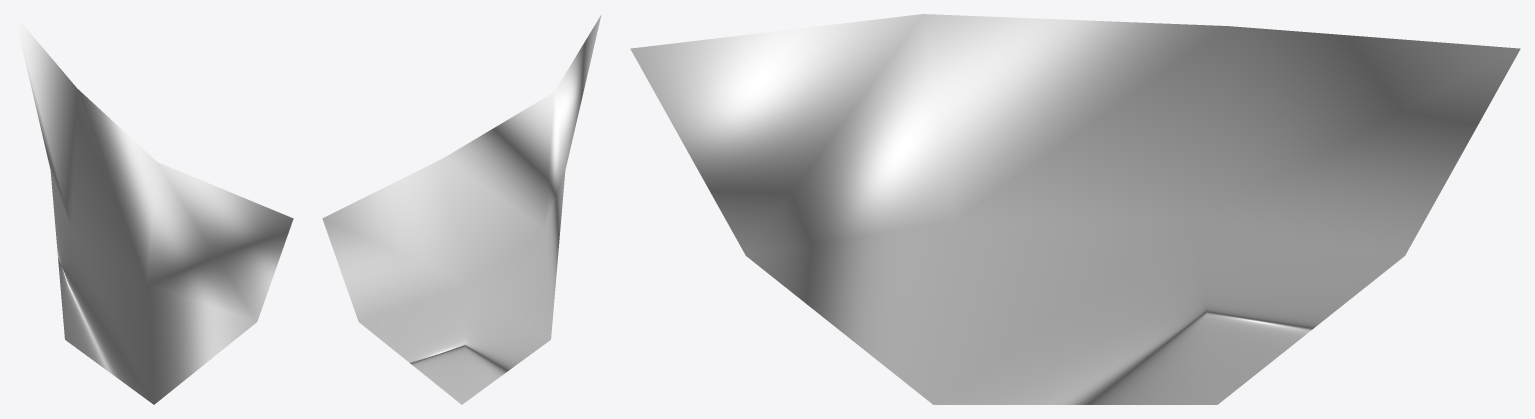
File: azjol_web_01.obj
3 views of the same model, side by side, from view 1: azimuth 30°, elevation 25°; view 2: azimuth 150°, elevation 25°; view 3: azimuth 270°, elevation 25° (orthographic). The views are drawn at different scales.
Visible parts, largest first — view 1: azjol_web_01; view 2: azjol_web_01; view 3: azjol_web_01.
Boxes of the visible parts, <box> form: azjol_web_01: <box>14,14,293,404</box>; azjol_web_01: <box>322,15,601,404</box>; azjol_web_01: <box>630,14,1520,404</box>.
Bounding box in the file's own units: 0.5636 × 2.97 × 6.13.
Materials: 1 (1 with a texture image).
